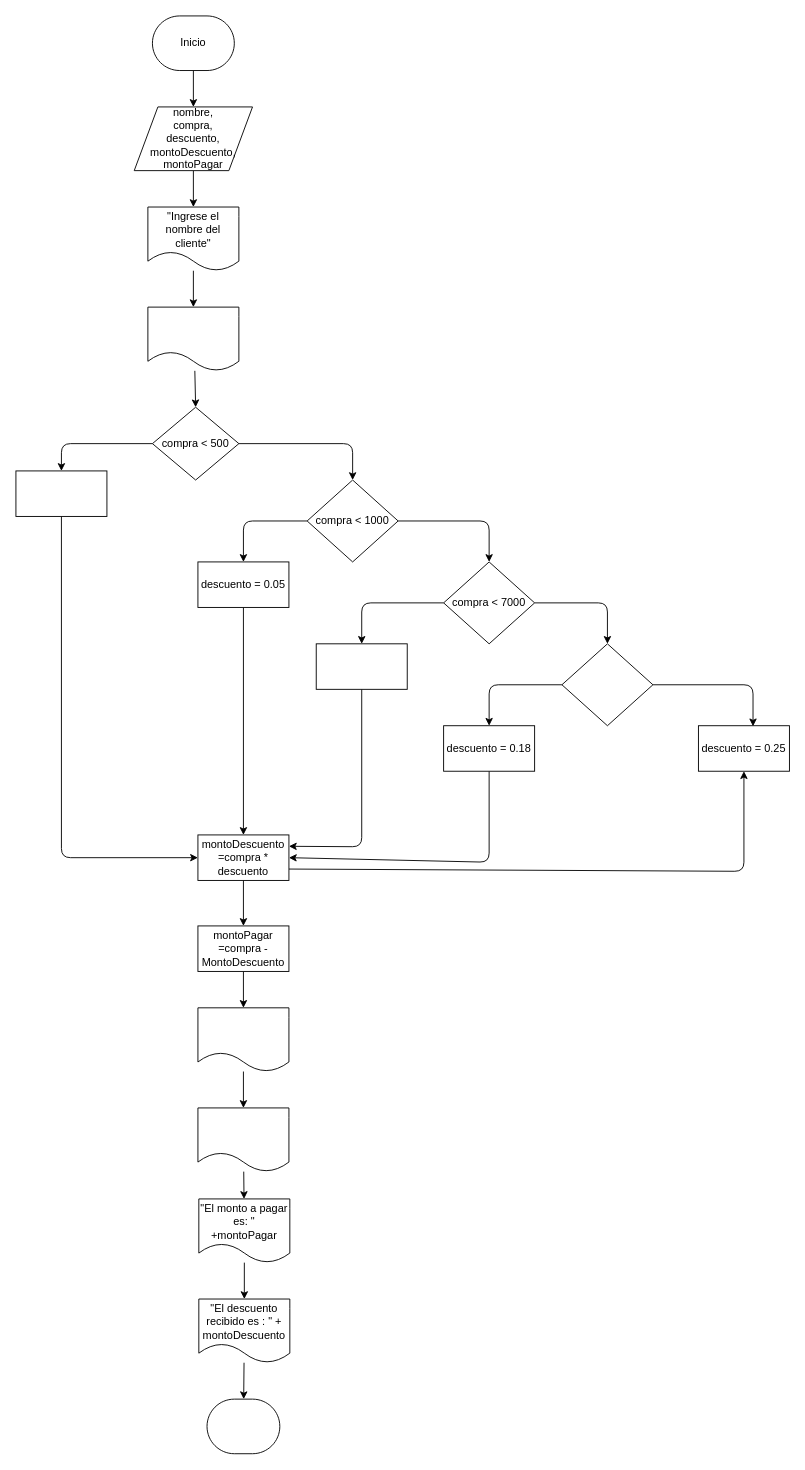
The diagram is 805 pixels wide and 1470 high, and some of its shapes have lost their labels. Each missing label, with the box of its shape:
"El monto de la compra es: " +compra: (197, 1107, 289, 1172)
"El nombre del cliente es " +nombre: (197, 1007, 289, 1072)
"Ingrese el monto de la compra: (147, 306, 239, 371)
compra <= 15000: (561, 643, 653, 726)
descuento = 0.11: (315, 643, 407, 689)
descuento= 0: (15, 470, 107, 516)
Fin: (206, 1398, 280, 1454)
